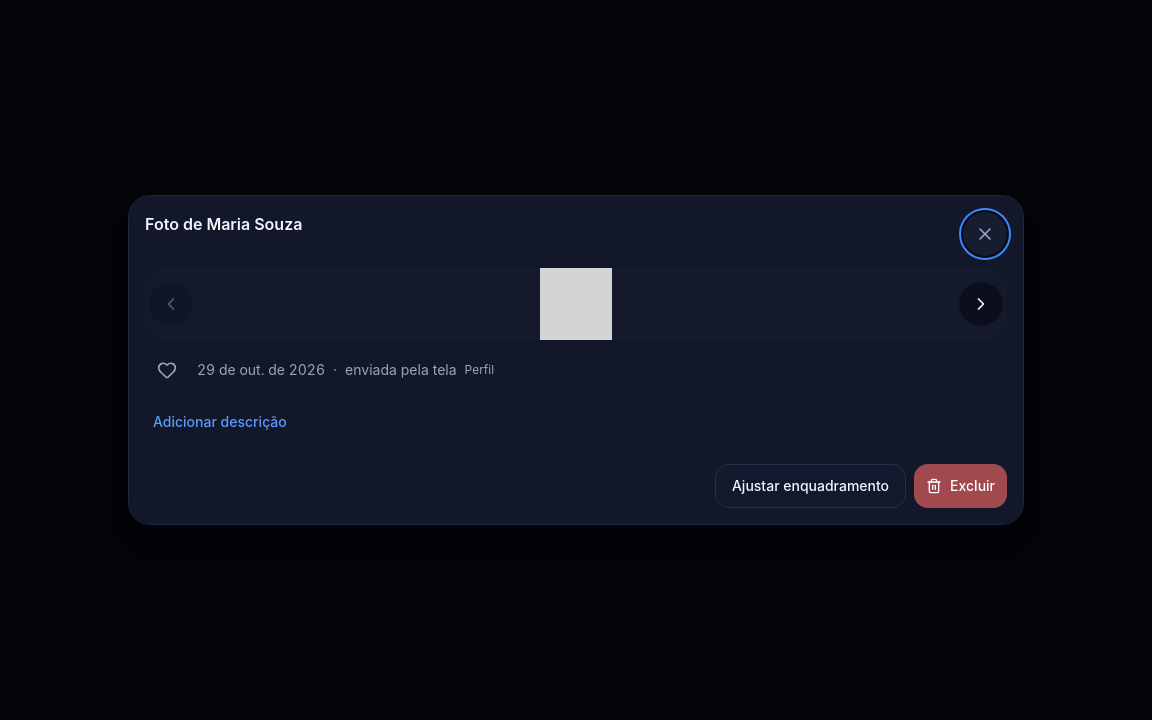
CustomerPhotoViewer › avisa que a cliente volta às iniciais quando a foto é o perfil
What coordinates should you click on to do the following:
click the button with test id "viewer-delete"
I would click on:
 (961, 486)
Its box is x1=914 y1=464 x2=1007 y2=508.
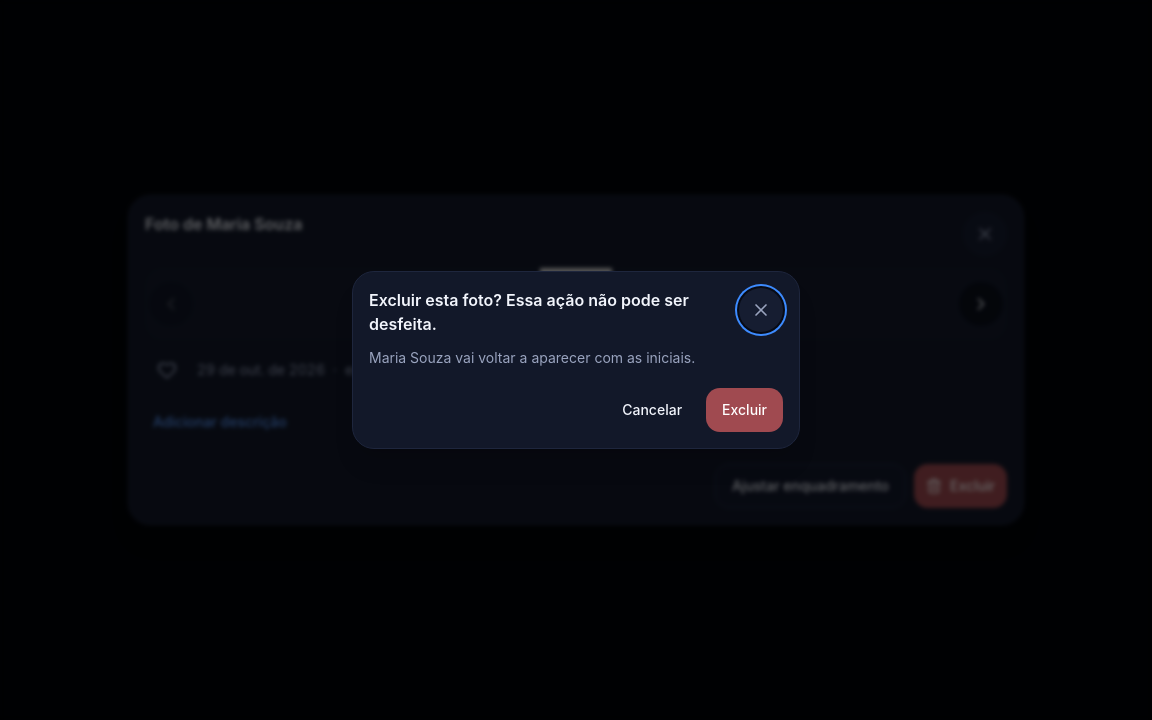
Now the text "Maria Souza vai voltar a aparecer com as iniciais." is shown, box x1=369 y1=349 x2=695 y2=366
